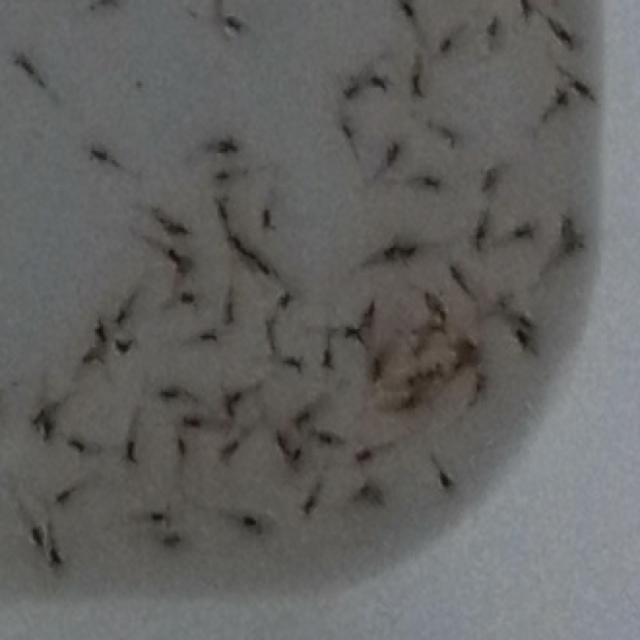shrimp-seed: (468, 224, 492, 254), (242, 512, 266, 540), (294, 492, 318, 518), (163, 218, 189, 242), (571, 80, 597, 104), (437, 124, 460, 151), (150, 506, 172, 534), (311, 429, 335, 453), (29, 406, 51, 432), (216, 442, 238, 468), (290, 408, 312, 434), (514, 220, 536, 246), (121, 438, 141, 466), (384, 140, 404, 168), (160, 530, 185, 552), (381, 239, 402, 265), (336, 113, 354, 143), (350, 448, 372, 472), (92, 317, 112, 343), (368, 482, 386, 510), (418, 319, 442, 340), (27, 526, 47, 551), (423, 170, 441, 197), (396, 0, 418, 22), (45, 546, 65, 570), (53, 488, 73, 512), (437, 470, 457, 494), (174, 256, 194, 280), (11, 51, 31, 75), (340, 80, 360, 104), (479, 170, 496, 198), (258, 210, 276, 236), (518, 310, 536, 336), (216, 135, 237, 157), (221, 14, 242, 36), (157, 386, 180, 406), (210, 197, 230, 220), (368, 75, 389, 96), (66, 438, 88, 458), (86, 144, 108, 164), (408, 76, 426, 100), (496, 289, 514, 313), (368, 358, 384, 385), (181, 414, 201, 434), (198, 326, 218, 346), (317, 350, 335, 372), (447, 266, 469, 284), (256, 258, 272, 282), (282, 358, 303, 376), (472, 373, 490, 394), (224, 391, 246, 408), (421, 292, 438, 314), (261, 315, 278, 337), (42, 420, 56, 446), (349, 486, 369, 504), (278, 290, 296, 310), (210, 168, 228, 188), (566, 240, 584, 260), (401, 242, 417, 264), (556, 219, 574, 238), (114, 339, 134, 356), (363, 300, 377, 324), (551, 90, 566, 112), (178, 290, 196, 308), (173, 439, 189, 459), (80, 349, 96, 369), (514, 334, 530, 354), (436, 40, 452, 60), (484, 20, 500, 40), (562, 32, 578, 52), (224, 304, 238, 326), (230, 236, 245, 256), (519, 1, 536, 18), (273, 434, 289, 452), (112, 310, 130, 326), (430, 363, 446, 379), (290, 447, 304, 465), (165, 249, 180, 265), (403, 377, 420, 391), (400, 400, 414, 416), (463, 338, 477, 354), (344, 328, 359, 342), (222, 406, 234, 422), (454, 361, 466, 375), (437, 305, 448, 319)
